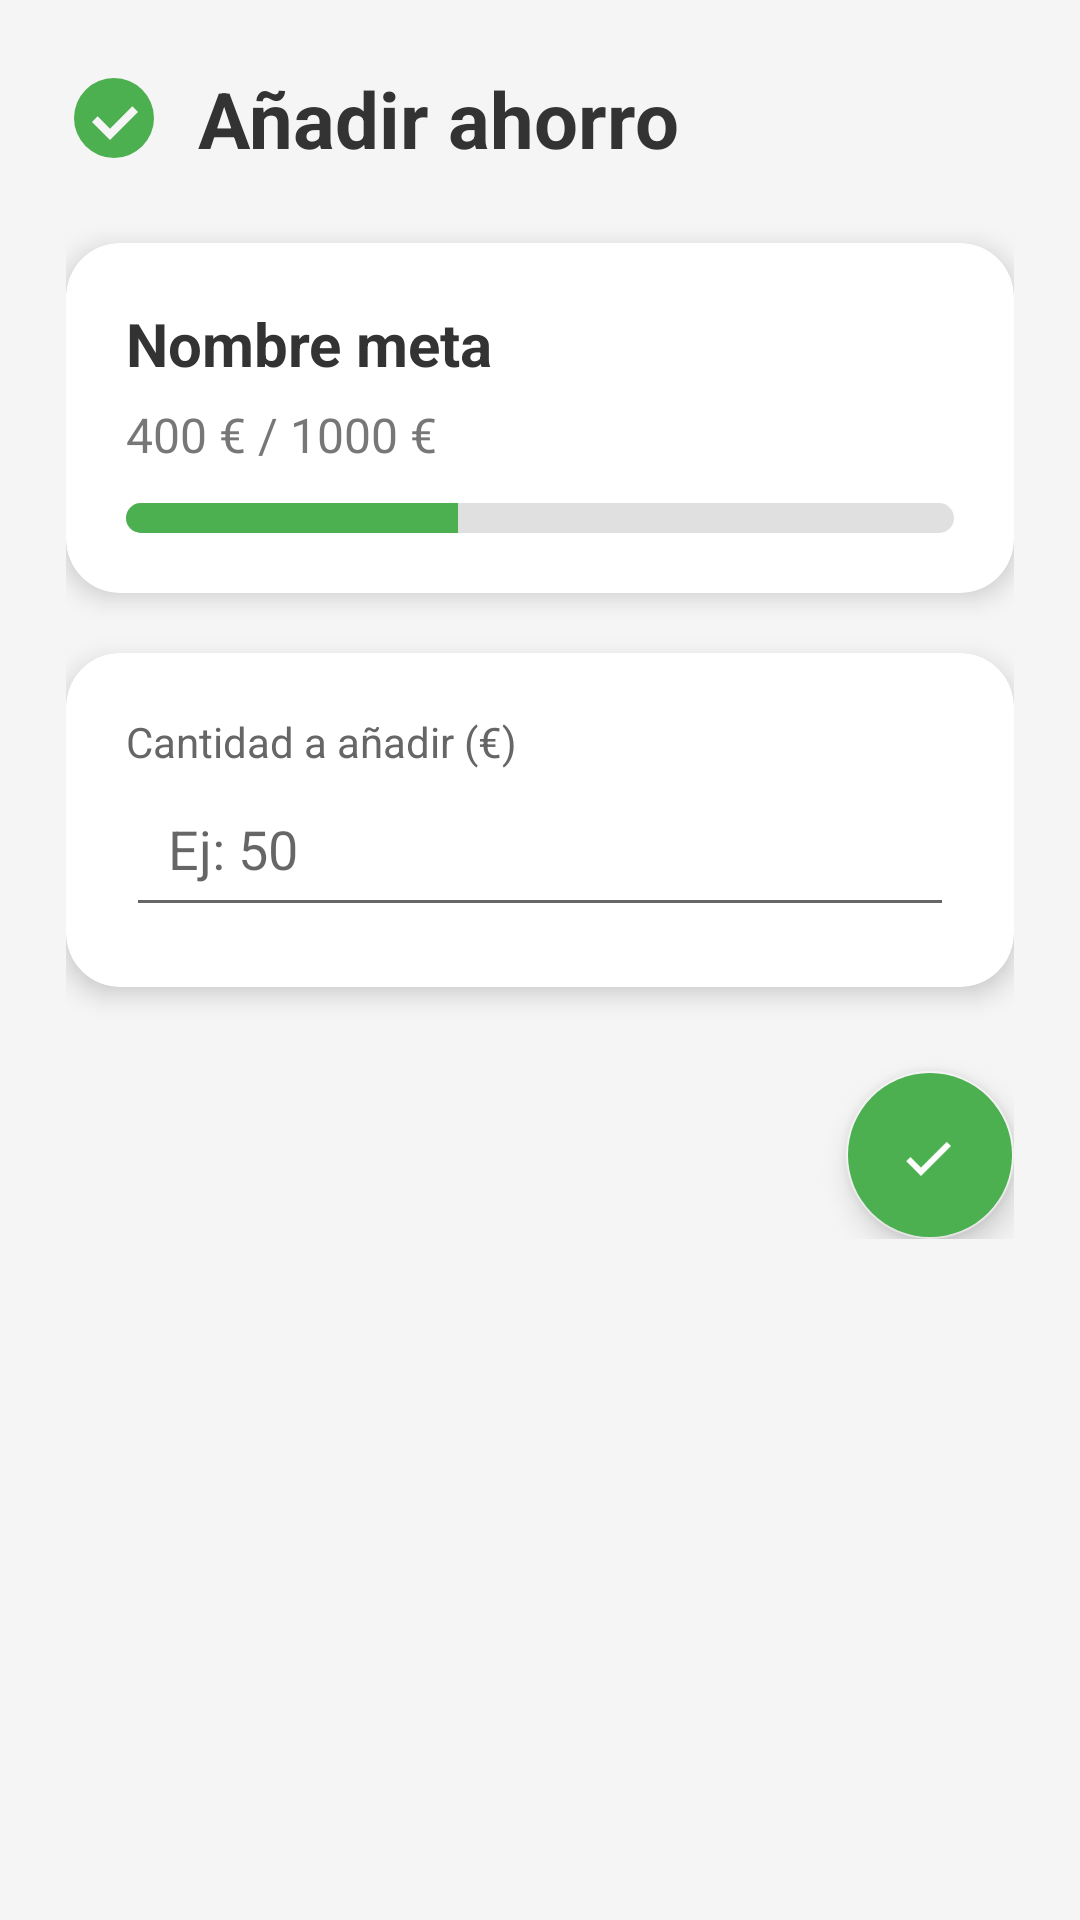

Where to tap for icons on this 1080px×1920px app screen, as point (x, y):
Guardar: point (931, 1156)
